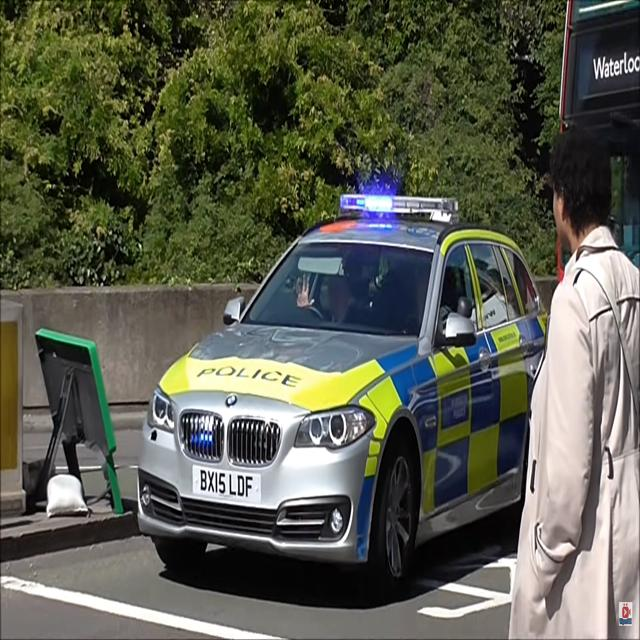emergency-vehicles: (125, 172, 587, 621)
